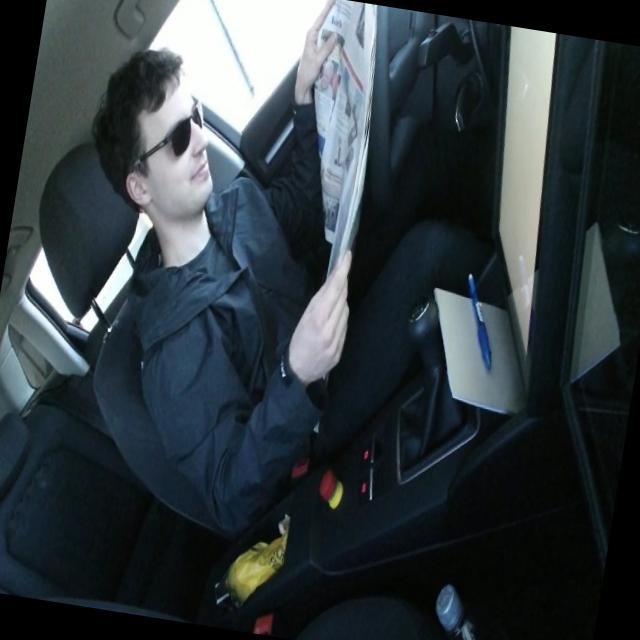pen: (453, 269, 506, 372)
